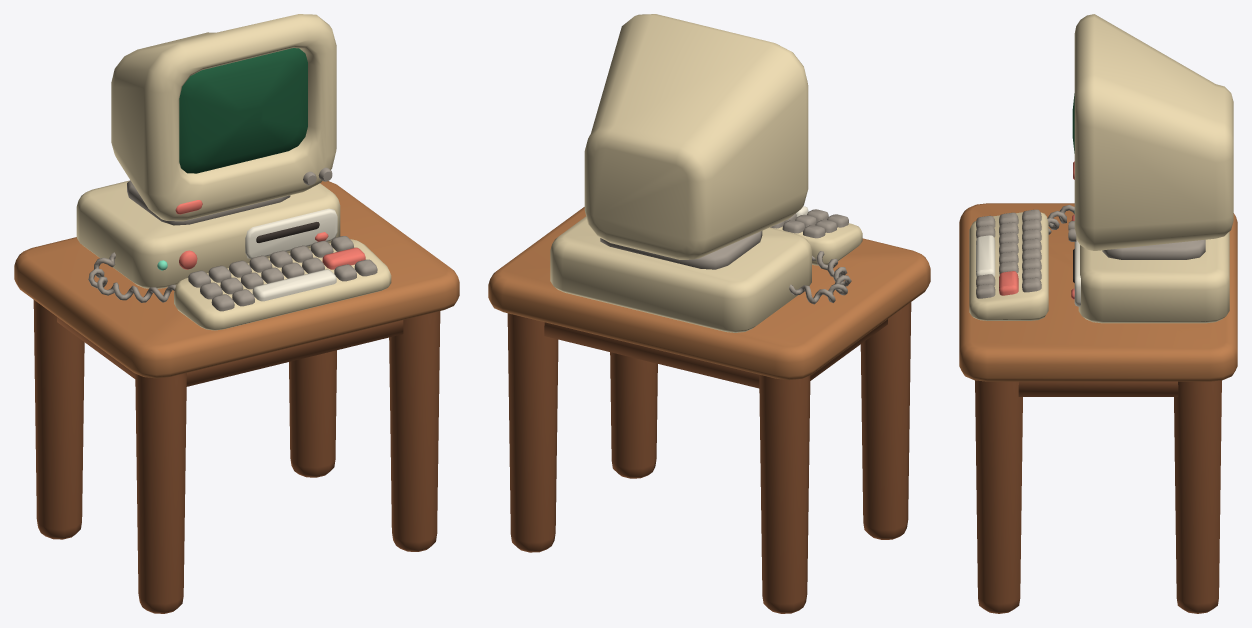
The model's file is ShopPC_Desk.fbx.
The picture shows the model from 3 angles, left to right: view 1: azimuth 30°, elevation 25°; view 2: azimuth 150°, elevation 25°; view 3: azimuth 270°, elevation 25°; orthographic projection. The views are drawn at different scales.
Parts seen in each view (by area): view 1: ShopPC_Desk; view 2: ShopPC_Desk; view 3: ShopPC_Desk.
Boxes of the visible parts, left/top/right/bottom form: ShopPC_Desk: left=14, top=14, right=459, bottom=613; ShopPC_Desk: left=488, top=14, right=930, bottom=613; ShopPC_Desk: left=959, top=14, right=1237, bottom=613.
Size of the model in its own units: 0.92 by 1.39 by 0.7.
